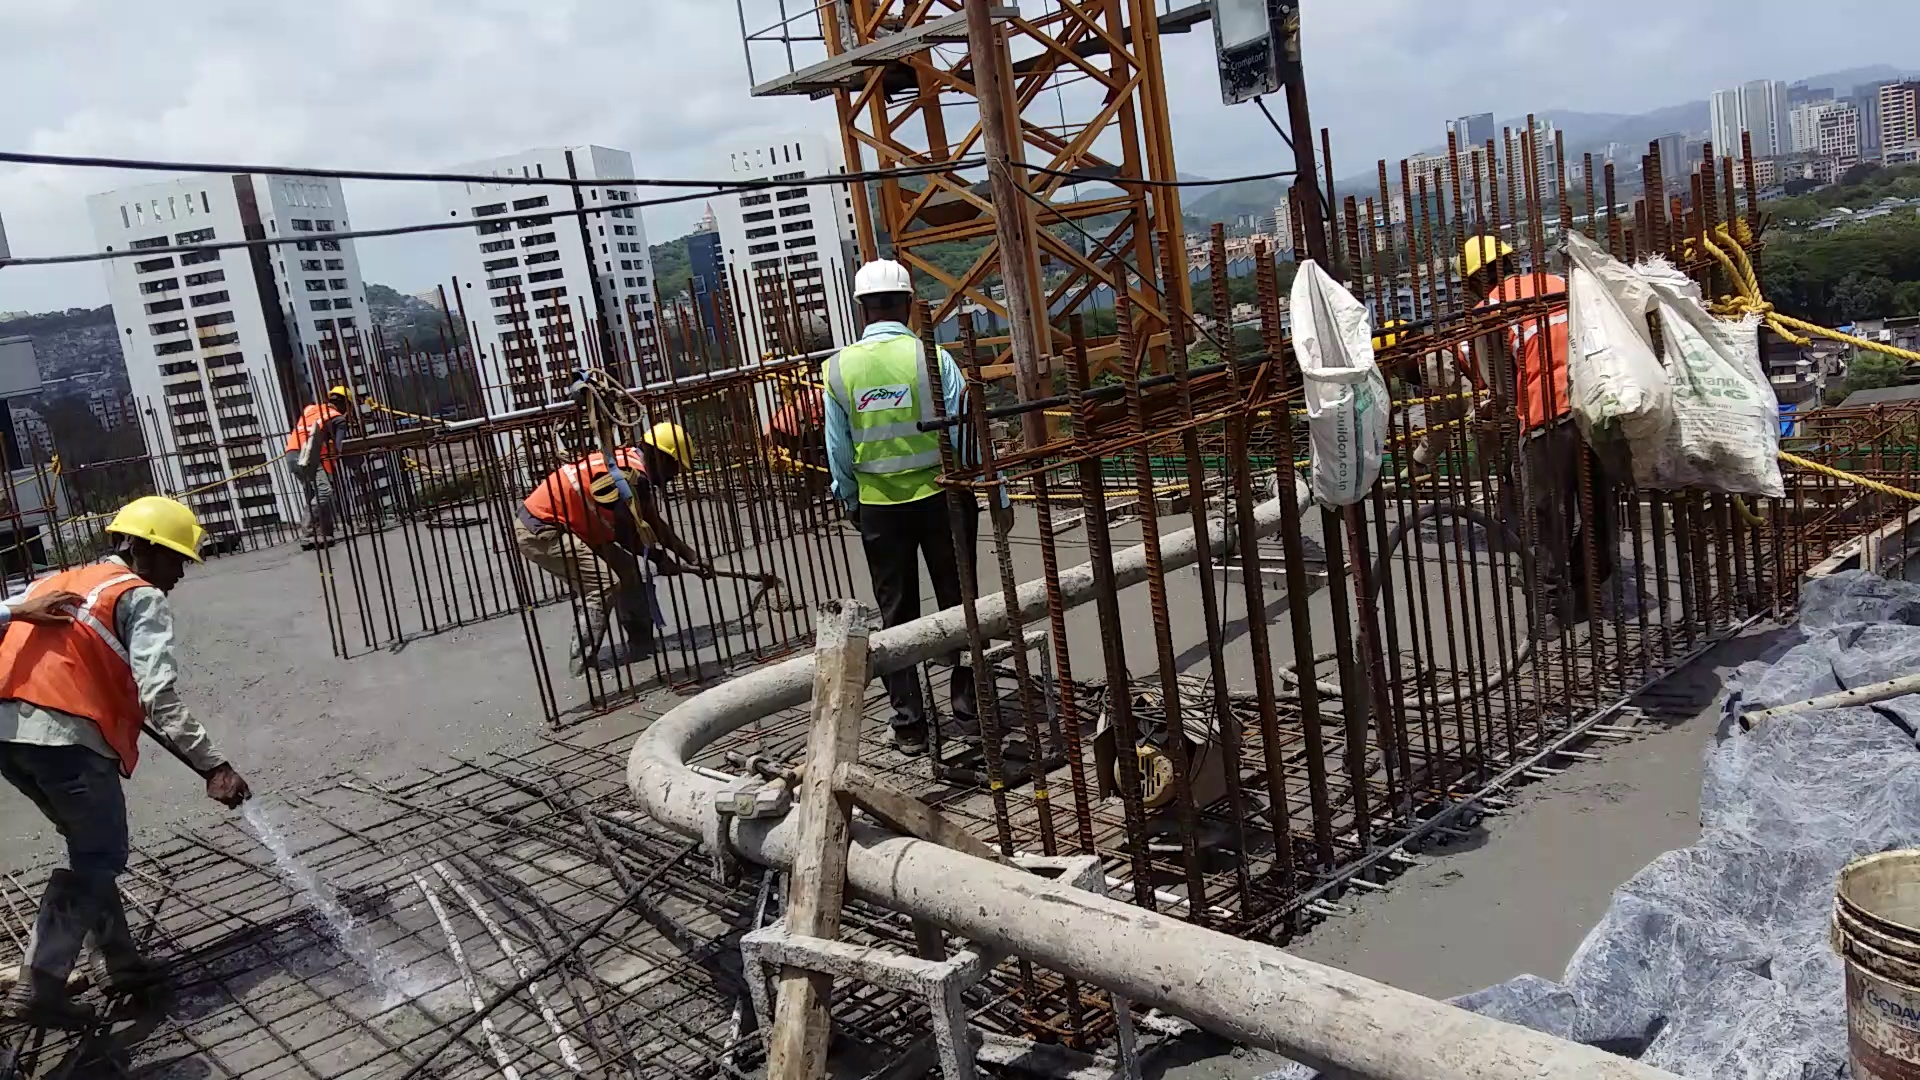SAFE: (1, 488, 207, 749), (822, 258, 932, 506)
